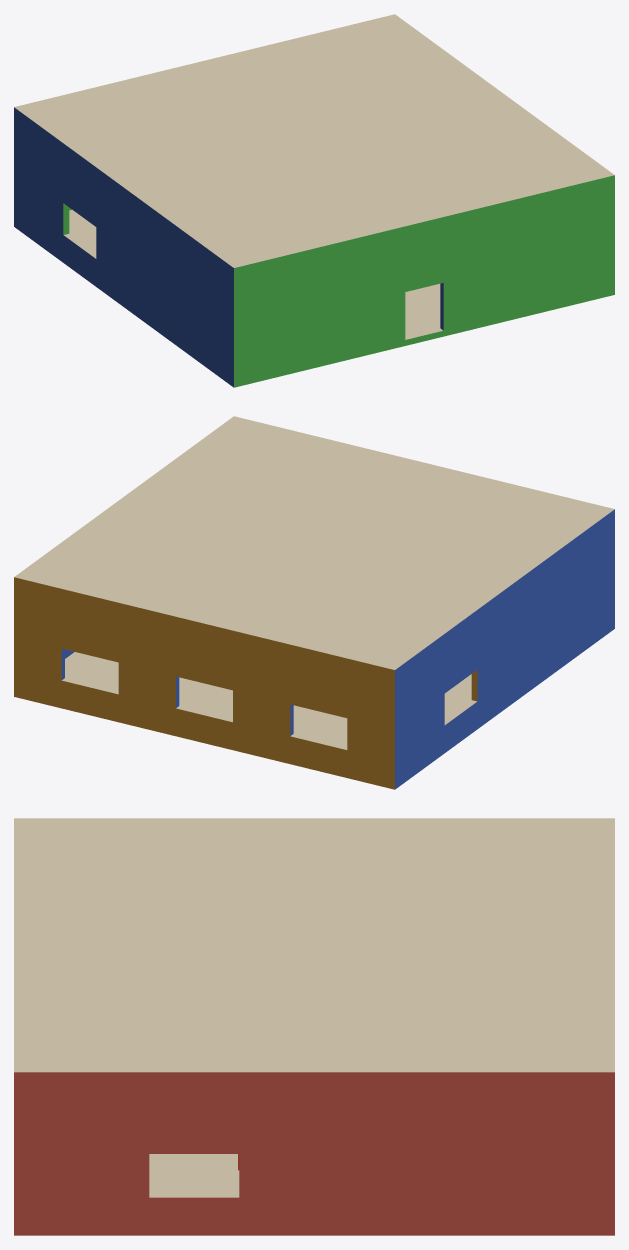
Rendered from room.obj.
The picture shows the model from 3 angles, top to bottom: view 1: azimuth 30°, elevation 25°; view 2: azimuth 150°, elevation 25°; view 3: azimuth 270°, elevation 25°; orthographic projection. The views are drawn at different scales.
Parts seen in each view (by area): view 1: floor, +z, -x; view 2: floor, -z, -x; view 3: floor, +x.
Part boxes in pixels (box(x1,y1,x2,y2)): floor: box(14, 14, 614, 339); +z: box(63, 175, 614, 387); -x: box(14, 107, 443, 387); floor: box(14, 416, 614, 749); -z: box(14, 577, 477, 789); -x: box(61, 509, 614, 789); floor: box(14, 818, 614, 1197); +x: box(14, 1072, 614, 1235).
Bounding box in the file's own units: 20 × 6 × 20.
